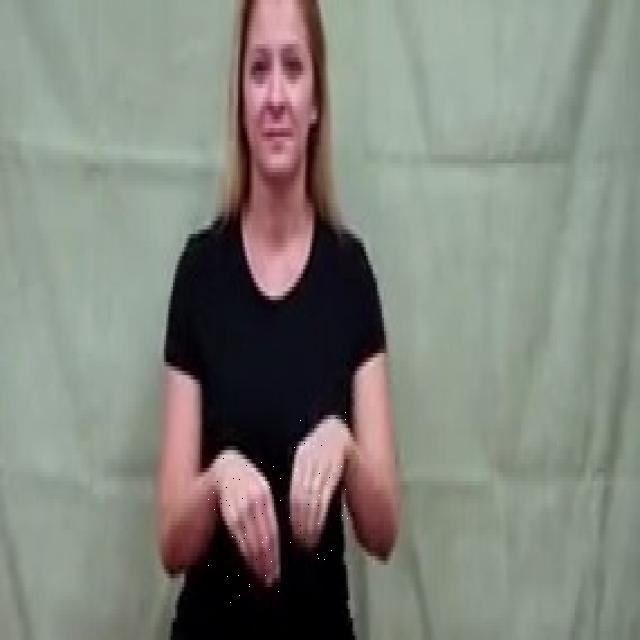ingredients: (208, 442, 283, 604), (288, 410, 348, 560)
